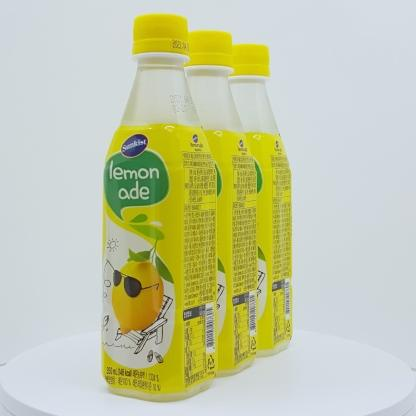-------350ML: (101, 13, 218, 403), (159, 29, 257, 377), (203, 42, 293, 358)
